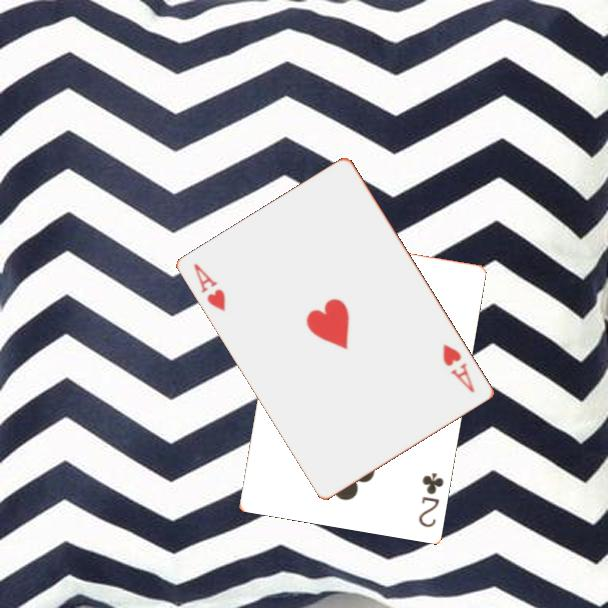c02: (415, 468, 446, 530)
h01: (439, 340, 478, 396), (190, 260, 229, 315)
